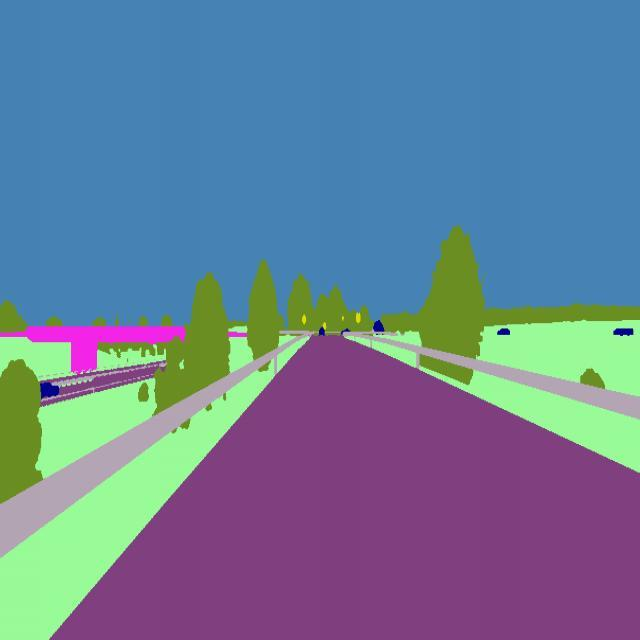safe: (34, 378, 62, 401), (610, 325, 636, 342), (370, 318, 387, 336), (316, 323, 328, 338), (498, 328, 512, 338)
